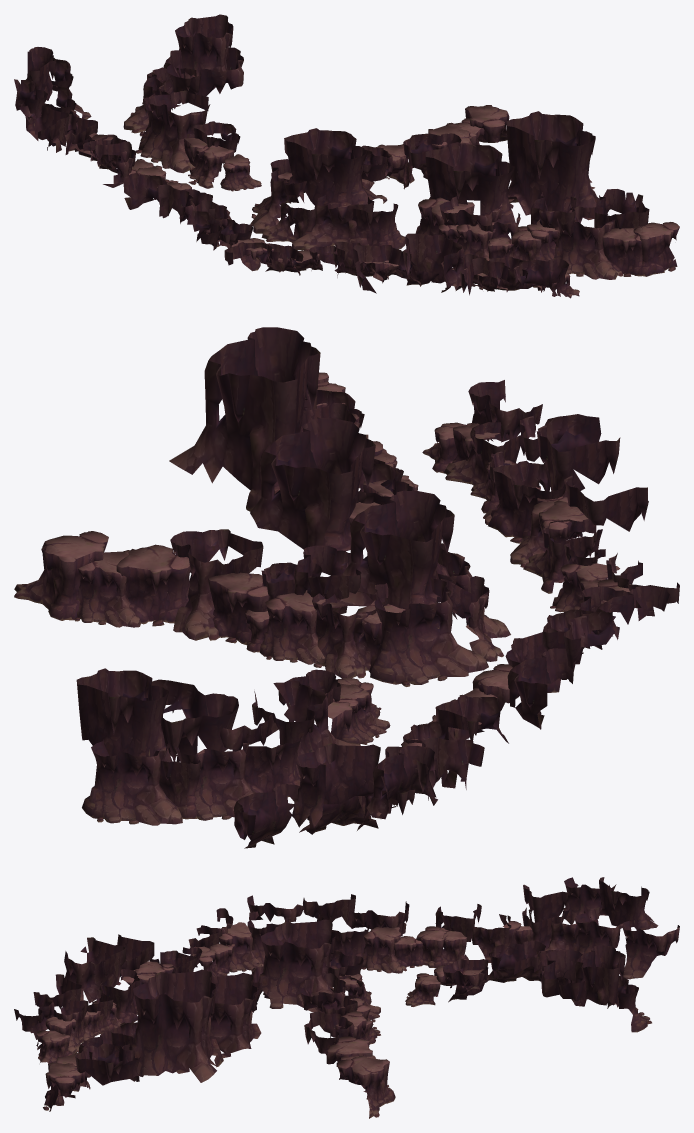
File: area14_shiqiang_02.FBX
3 views of the same model, one above another, from view 1: azimuth 30°, elevation 25°; view 2: azimuth 150°, elevation 25°; view 3: azimuth 270°, elevation 25° (orthographic). The views are drawn at different scales.
Parts seen in each view (by area): view 1: area14_shiqiang_02; view 2: area14_shiqiang_02; view 3: area14_shiqiang_02.
Boxes of the visible parts, x1,y1,x2,y2 form: area14_shiqiang_02: (14, 14, 679, 298); area14_shiqiang_02: (14, 327, 679, 848); area14_shiqiang_02: (14, 877, 679, 1118).
Size of the model in its own units: 12251 by 3370 by 18340.
